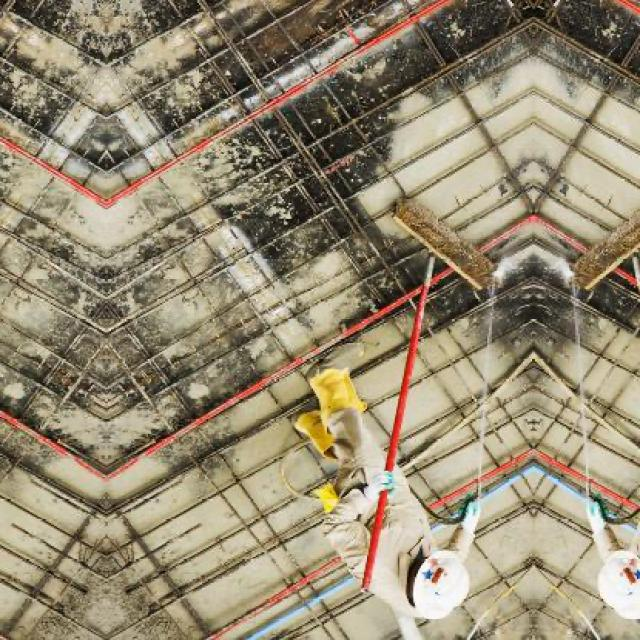con casco: (386, 475, 475, 622)
